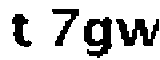7: (48, 6, 79, 52)
g: (82, 16, 113, 60)
t: (9, 11, 39, 50)
w: (114, 15, 160, 52)
